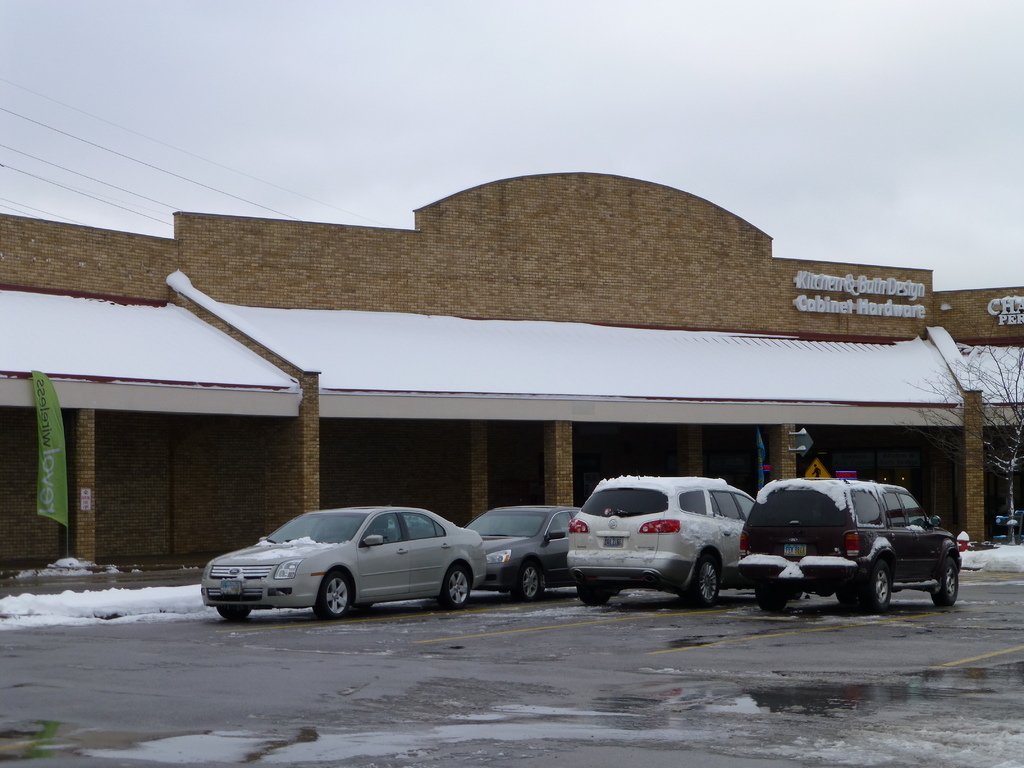Car: (195, 503, 506, 625), (733, 474, 959, 613), (562, 471, 755, 608), (468, 500, 577, 606)
